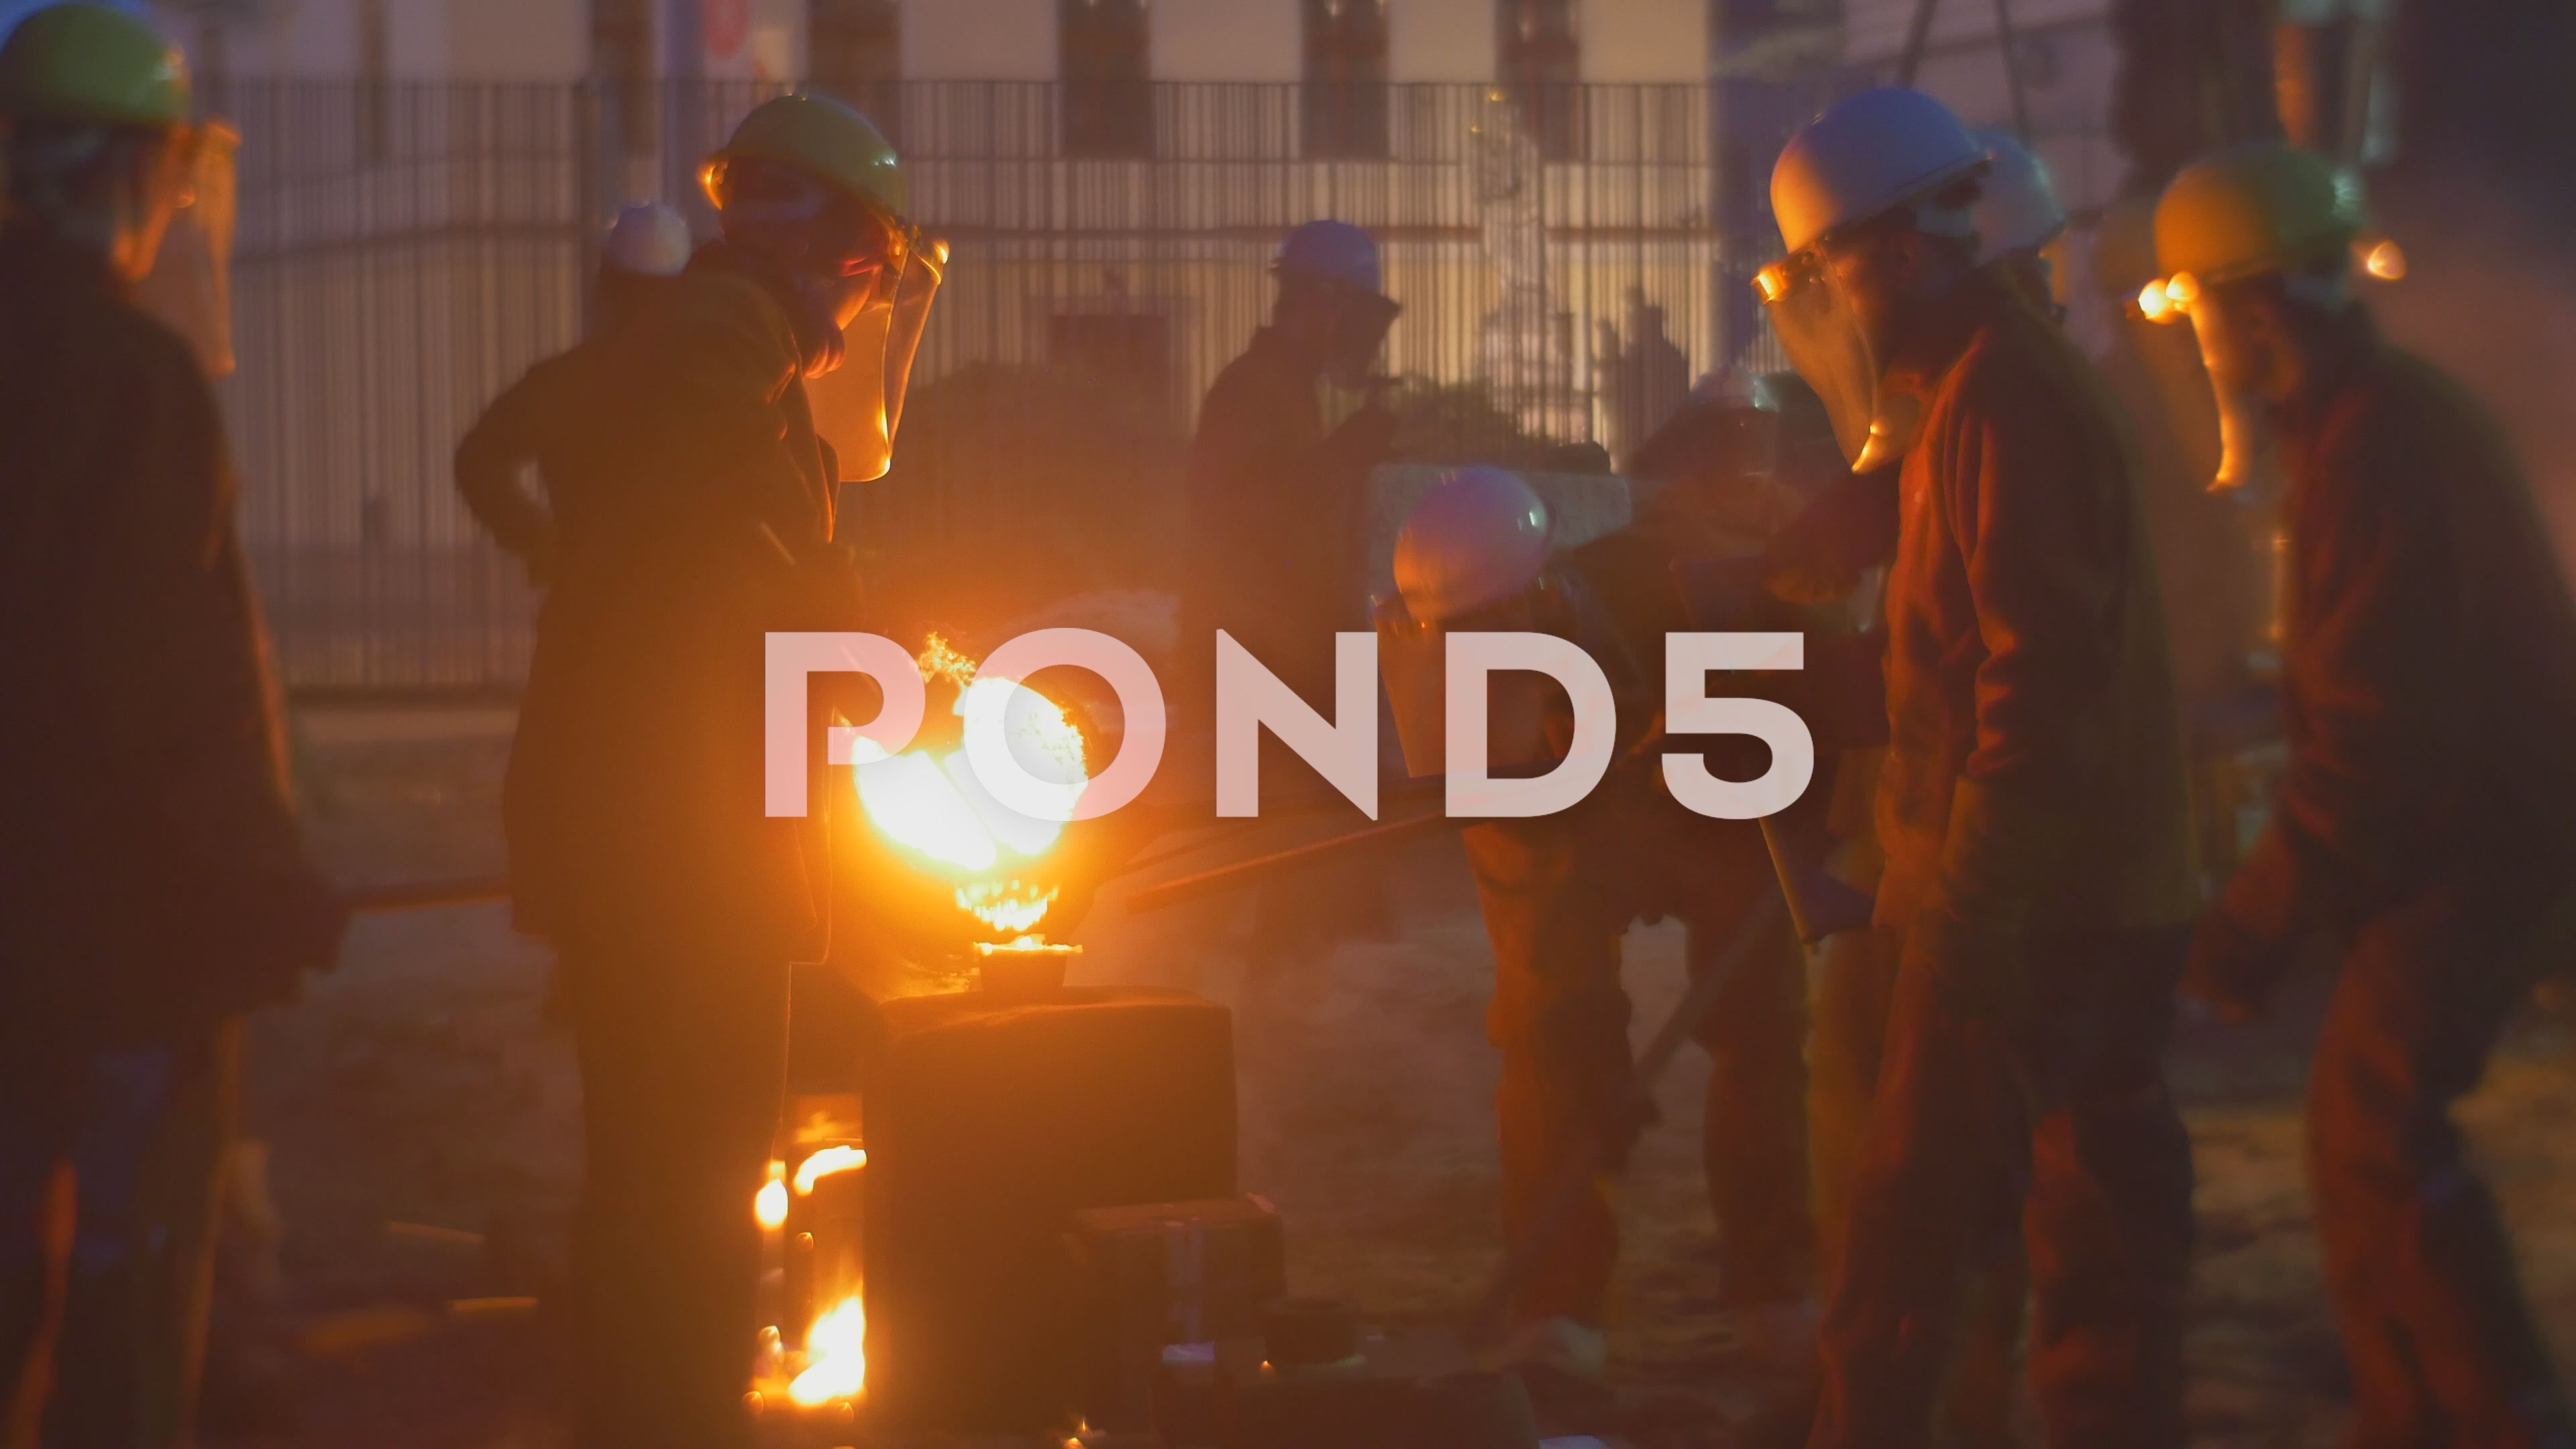blue: (1767, 92, 1992, 338), (1403, 469, 1571, 679), (1272, 218, 1382, 366), (593, 191, 692, 311)
yellow: (2141, 133, 2371, 403), (715, 92, 927, 338), (12, 5, 200, 276)
